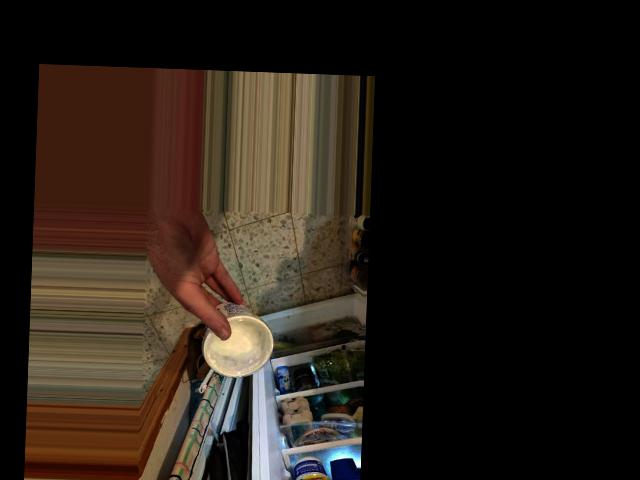cotage: (196, 295, 267, 382)
